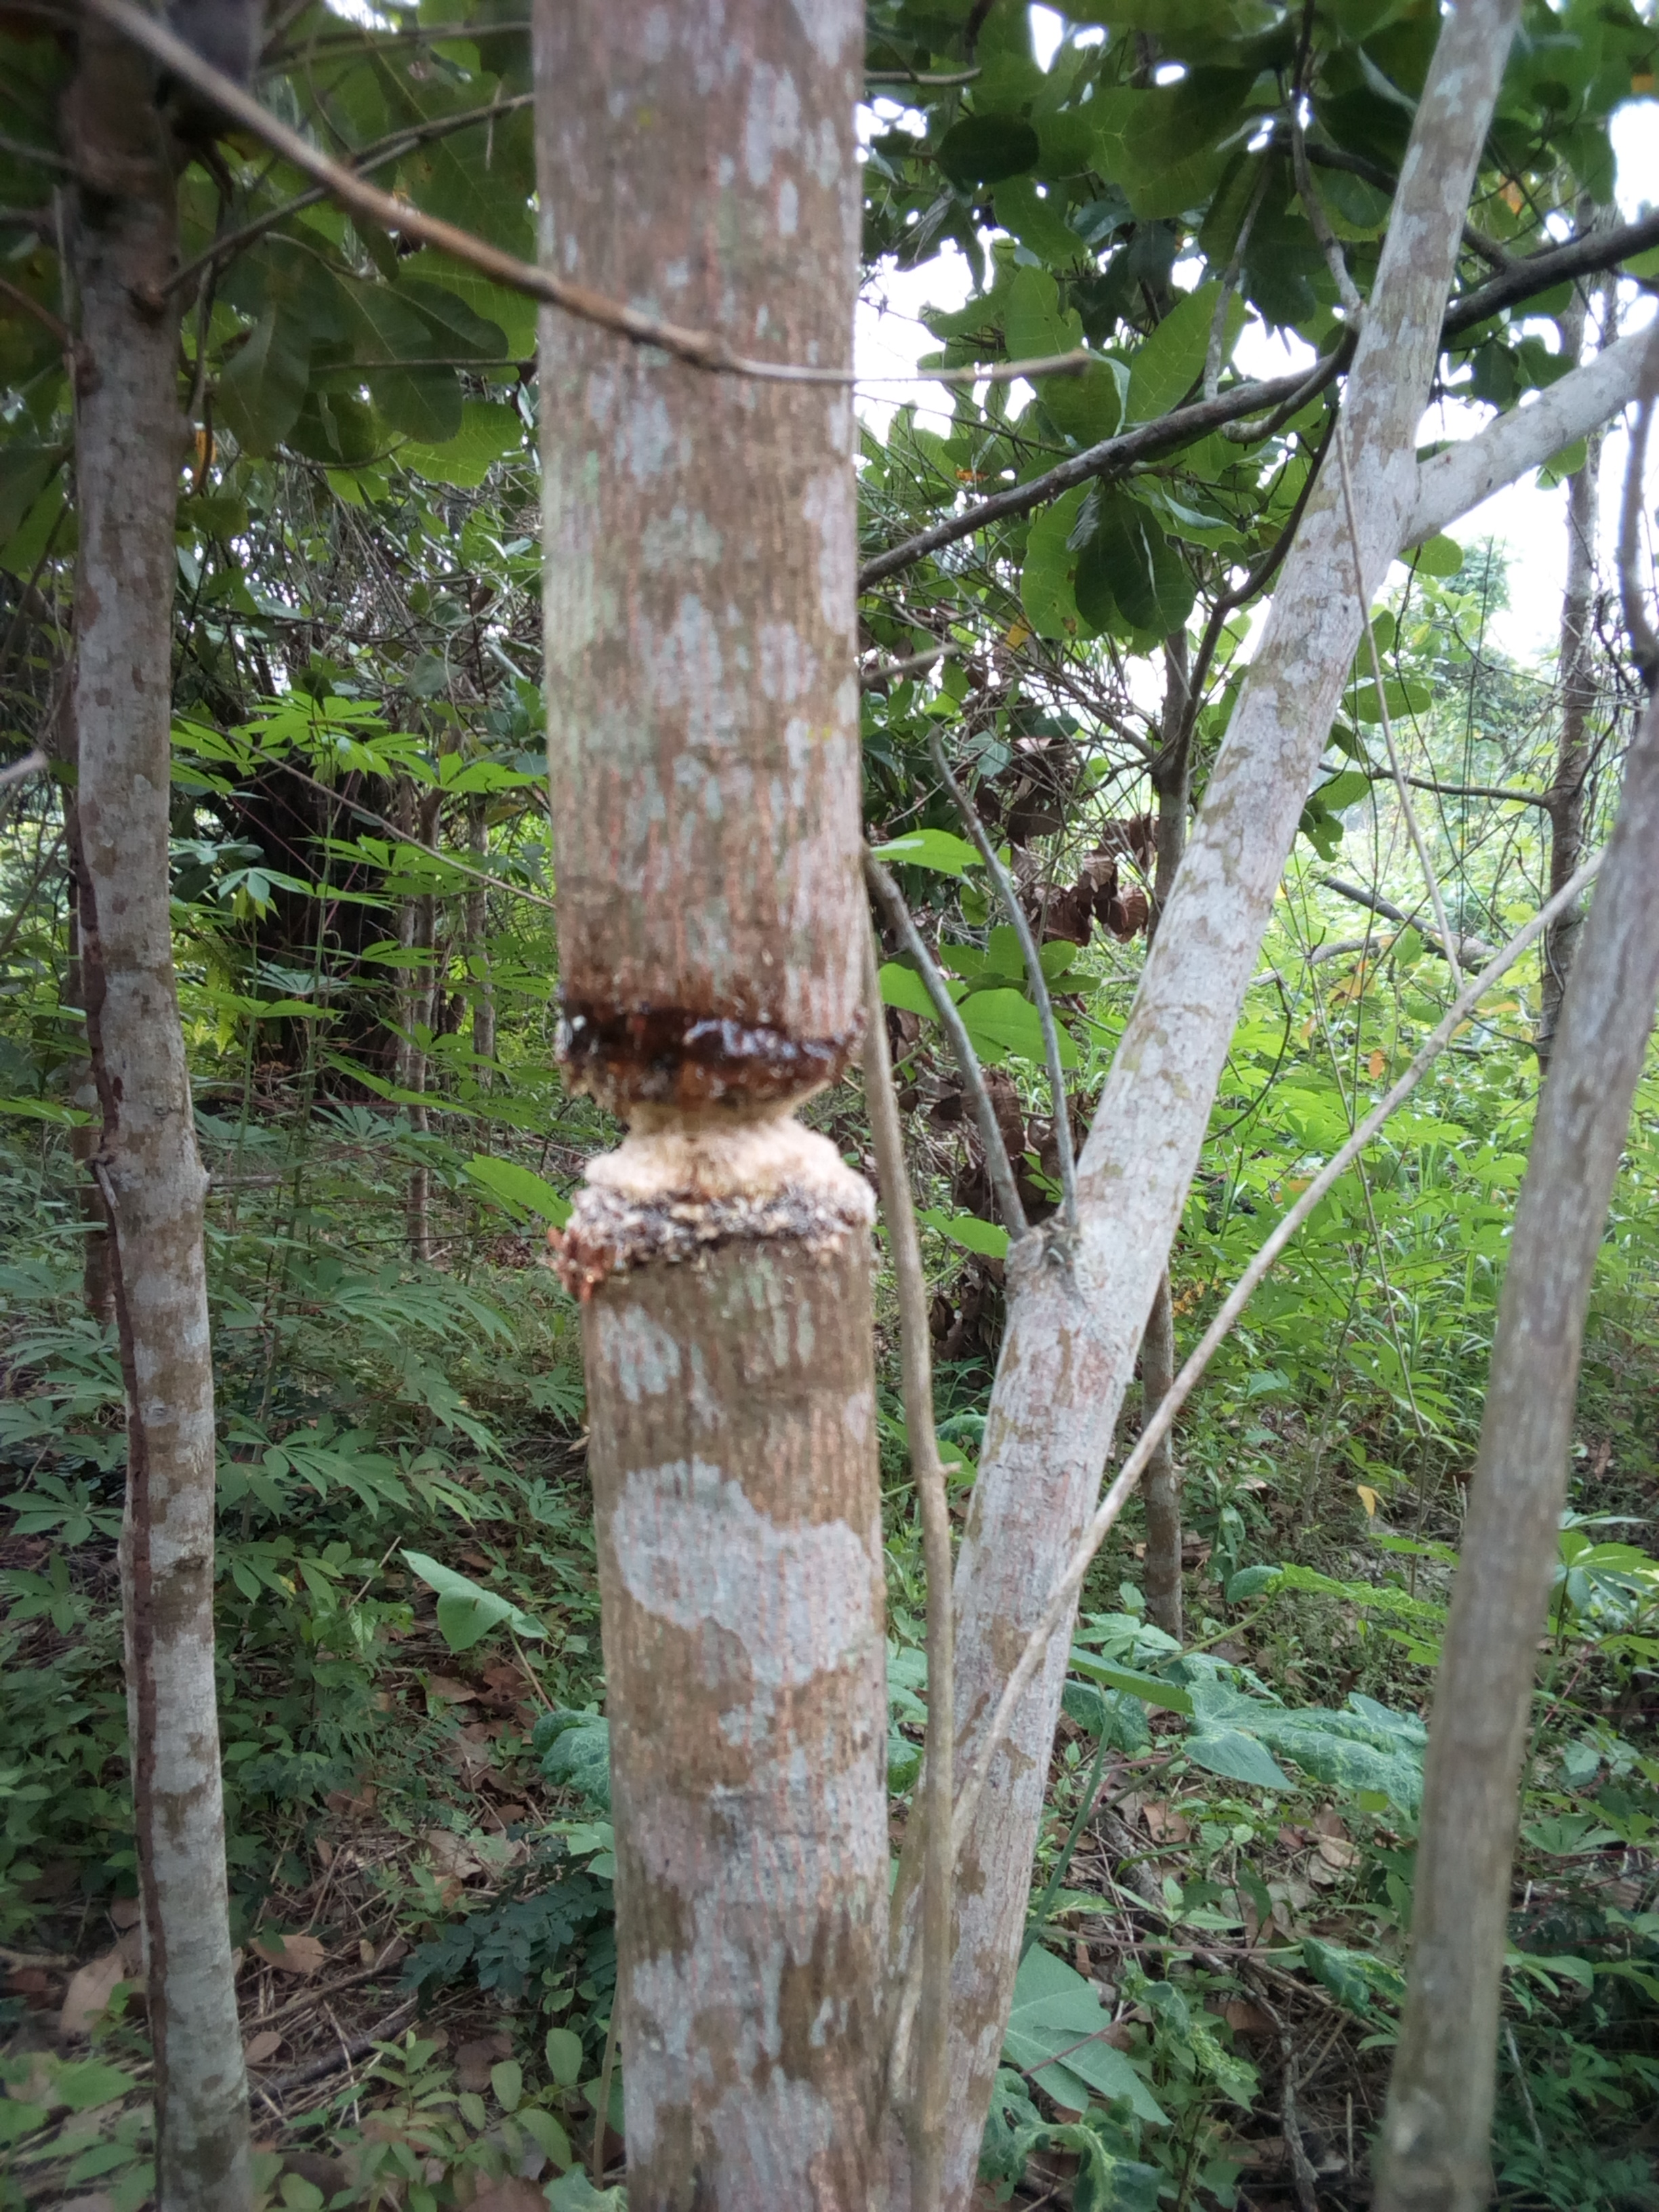Analepse trifasciata: (471, 953, 965, 1271)
